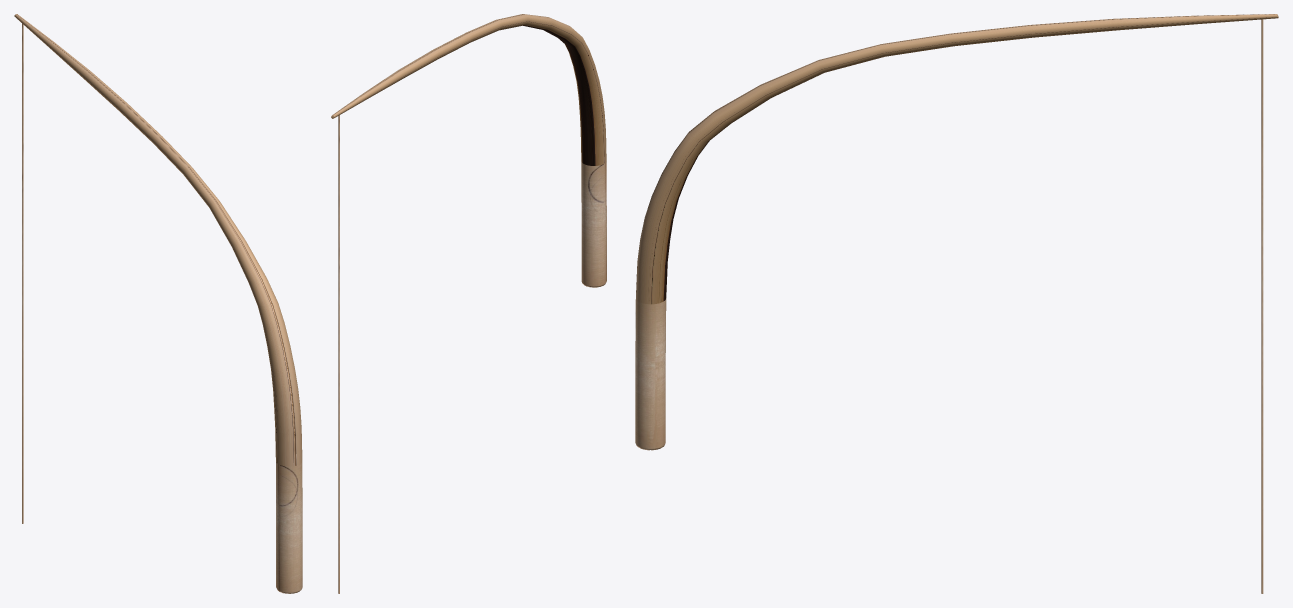
The model's file is fishing_root.fbx.
3 renders of one model, left to right at view 1: azimuth 30°, elevation 25°; view 2: azimuth 150°, elevation 25°; view 3: azimuth 270°, elevation 25°, orthographic. The views are drawn at different scales.
Parts seen in each view (by area): view 1: pCylinder1, pCylinder2; view 2: pCylinder1, pCylinder2; view 3: pCylinder1, pCylinder2.
Boxes of the visible parts, bbox=[...] form: pCylinder1: bbox=[14, 14, 302, 593]; pCylinder2: bbox=[22, 23, 23, 523]; pCylinder1: bbox=[331, 14, 606, 287]; pCylinder2: bbox=[338, 115, 339, 593]; pCylinder1: bbox=[635, 14, 1278, 450]; pCylinder2: bbox=[1261, 19, 1263, 593].
Size of the model in its own units: 0.2478 by 5.21 by 5.24.
Materials: 1 (1 with a texture image).
